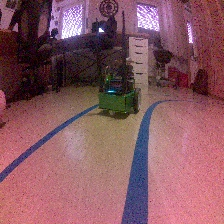rob: (97, 63, 142, 117)
